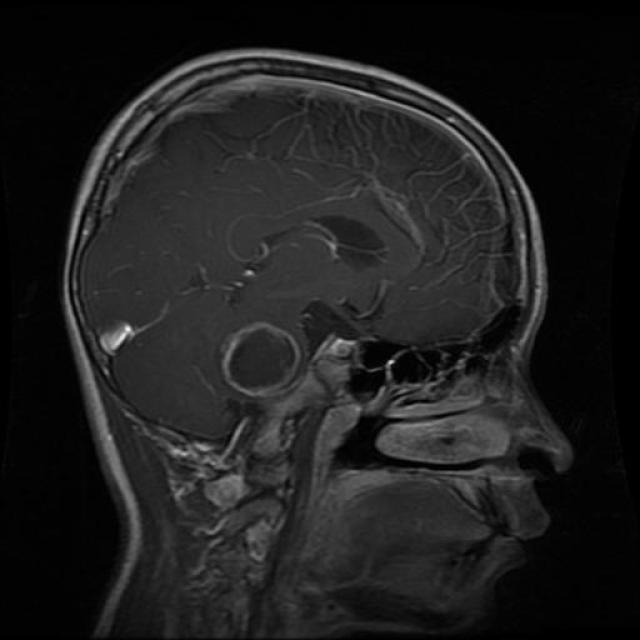glioma: (222, 320, 304, 399)
